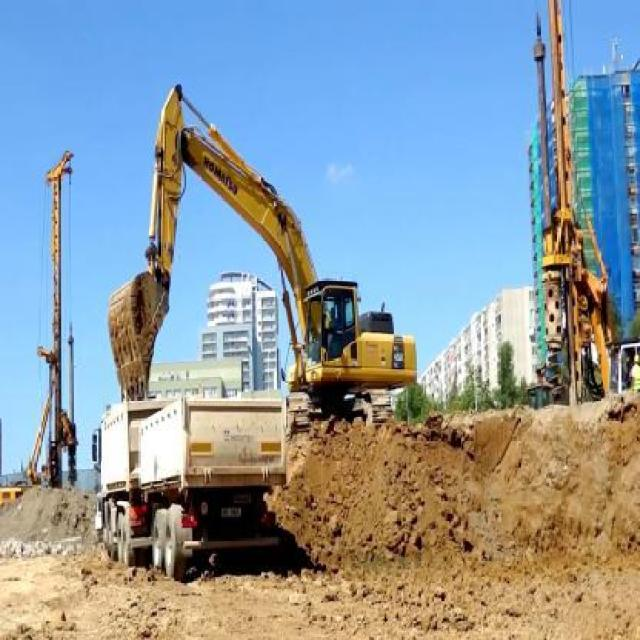dump_truck: (91, 392, 286, 582)
excavator: (106, 79, 417, 424)
